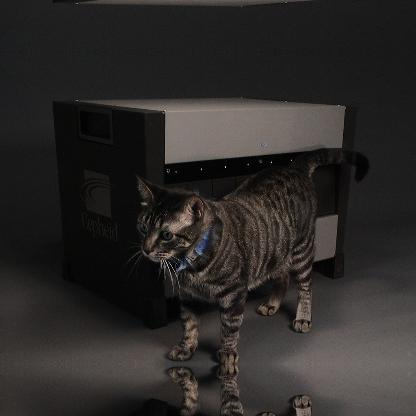Cat: (134, 146, 370, 362), (134, 365, 371, 415)
